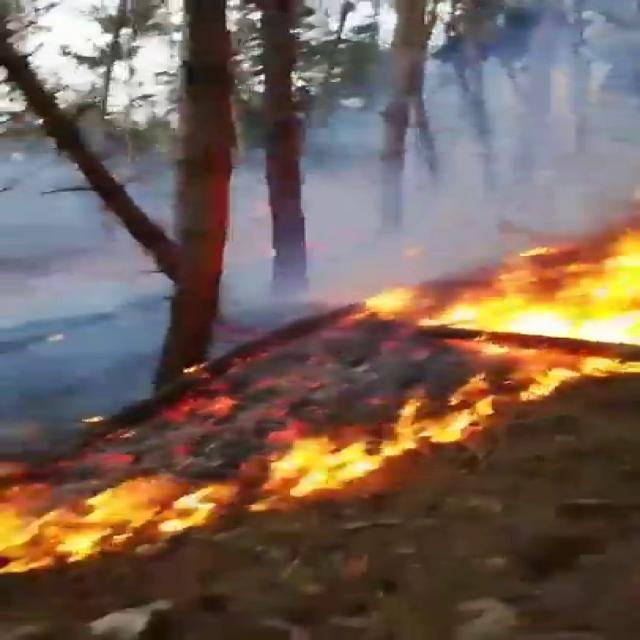Fire: (4, 357, 559, 570), (348, 229, 640, 362)
Smoke: (268, 0, 640, 285)
